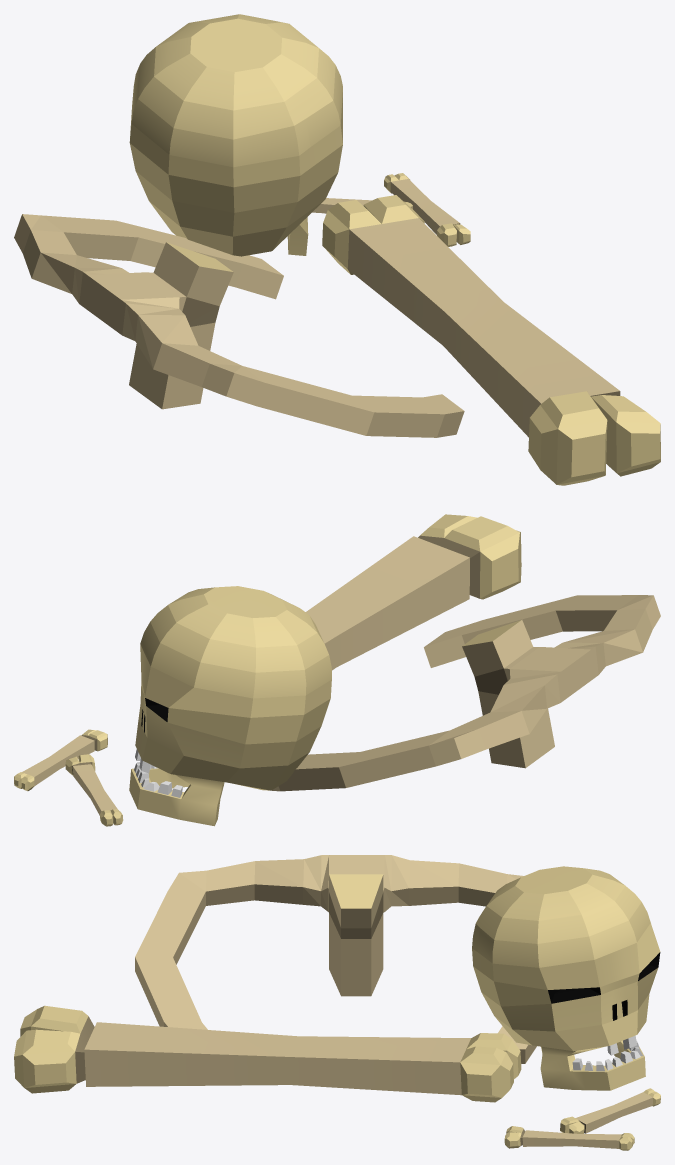
File: esqu4.fbx
The picture shows the model from 3 angles, top to bottom: view 1: azimuth 30°, elevation 25°; view 2: azimuth 150°, elevation 25°; view 3: azimuth 270°, elevation 25°; orthographic projection. The views are drawn at different scales.
Parts seen in each view (by area): view 1: Cabeza_Entera2, Costilla_7, Hueso11, Hueso12; view 2: Cabeza_Entera2, Costilla_7, Hueso11, Hueso12, Hueso13; view 3: Cabeza_Entera2, Hueso11, Costilla_7, Hueso12, Hueso13.
Part boxes in pixels (x1=…): Cabeza_Entera2: x1=129, y1=14, x2=342, y2=256; Costilla_7: x1=14, y1=214, x2=464, y2=437; Hueso11: x1=322, y1=195, x2=660, y2=485; Hueso12: x1=384, y1=173, x2=470, y2=246; Cabeza_Entera2: x1=129, y1=586, x2=331, y2=826; Costilla_7: x1=272, y1=595, x2=660, y2=791; Hueso11: x1=306, y1=514, x2=521, y2=670; Hueso12: x1=14, y1=729, x2=107, y2=791; Hueso13: x1=65, y1=754, x2=123, y2=826; Cabeza_Entera2: x1=472, y1=866, x2=660, y2=1090; Hueso11: x1=14, y1=1005, x2=521, y2=1102; Costilla_7: x1=135, y1=855, x2=536, y2=1063; Hueso12: x1=504, y1=1126, x2=634, y2=1150; Hueso13: x1=560, y1=1088, x2=660, y2=1133.
Size of the model in its own units: 3.47 by 1.63 by 4.93.
